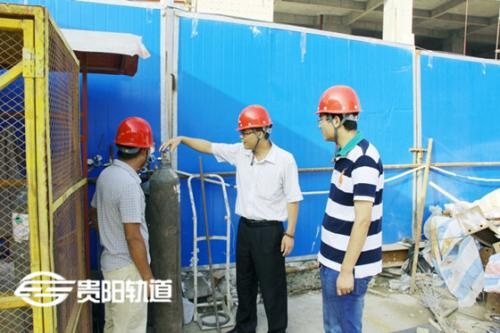red: (315, 84, 363, 145), (110, 113, 159, 171), (234, 102, 274, 152)
